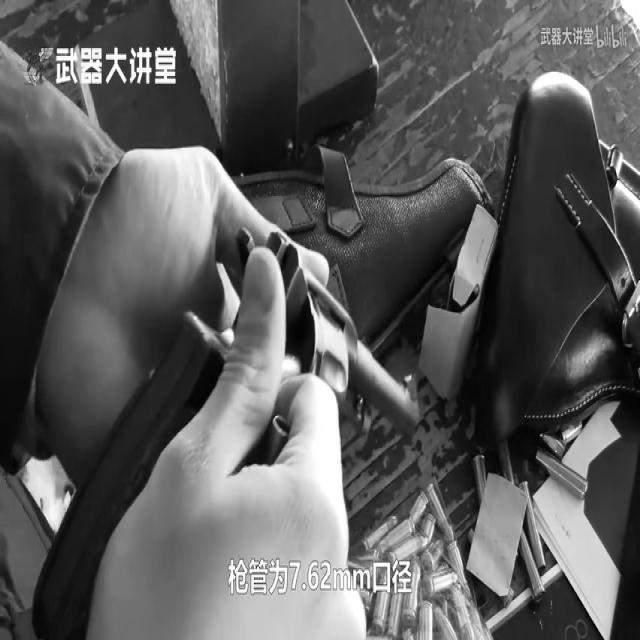Short-Gun: (0, 186, 435, 640)
